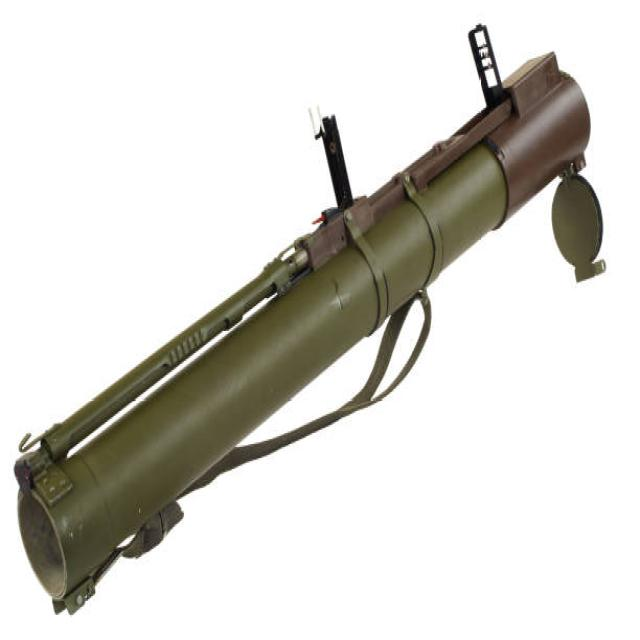bazooka: (4, 18, 616, 626)
